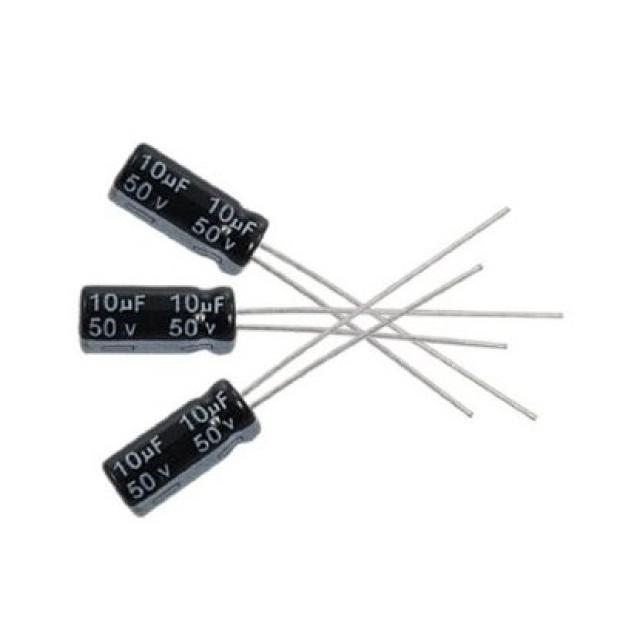Capacitor: (102, 379, 262, 520), (106, 143, 270, 279), (79, 285, 237, 356)
